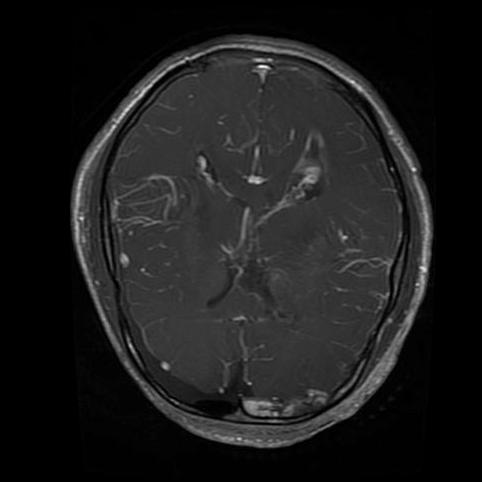Tumour-Glioma: (164, 361, 248, 428)
